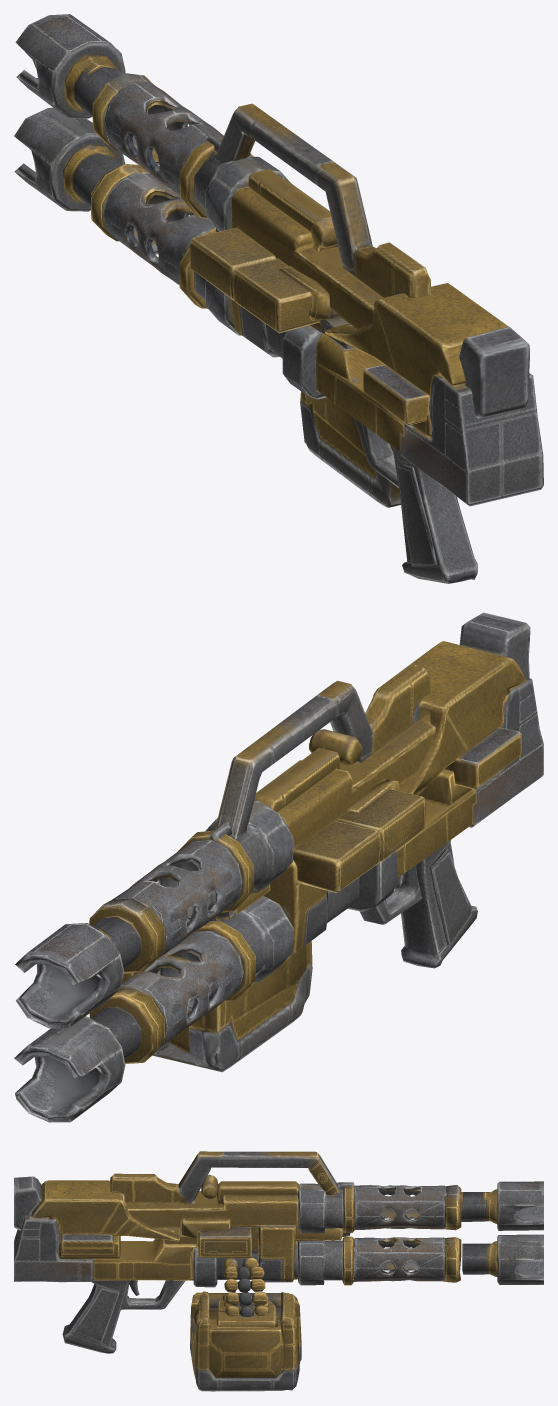
File: BS01_Weapon_Psycho.fbx
3 views of the same model, one above another, from view 1: azimuth 30°, elevation 25°; view 2: azimuth 150°, elevation 25°; view 3: azimuth 270°, elevation 25° (orthographic). The views are drawn at different scales.
Visible parts, largest first — view 1: BS01_Weapon_Psycho; view 2: BS01_Weapon_Psycho; view 3: BS01_Weapon_Psycho.
Boxes of the visible parts, x1,y1,x2,y2 form: BS01_Weapon_Psycho: (14,14,543,583); BS01_Weapon_Psycho: (14,612,543,1122); BS01_Weapon_Psycho: (14,1151,543,1391).
Size of the model in its own units: 0.3618 by 0.5396 by 1.3.
Materials: 1 (1 with a texture image).
